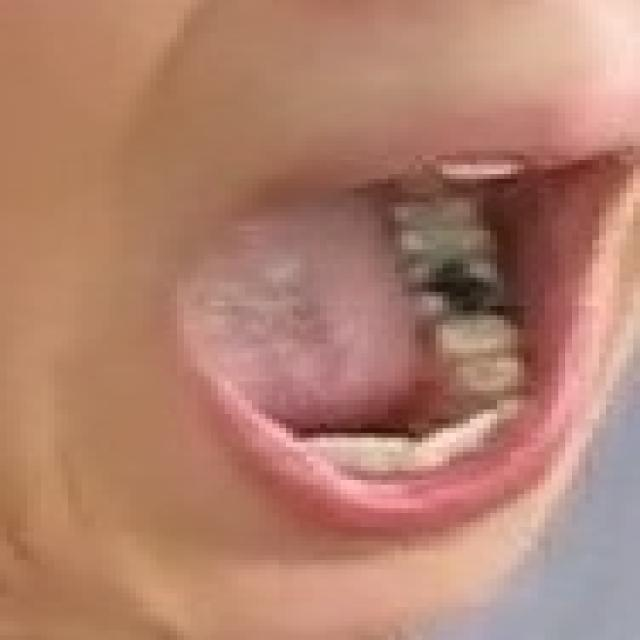open-mouth: (164, 132, 634, 532)
